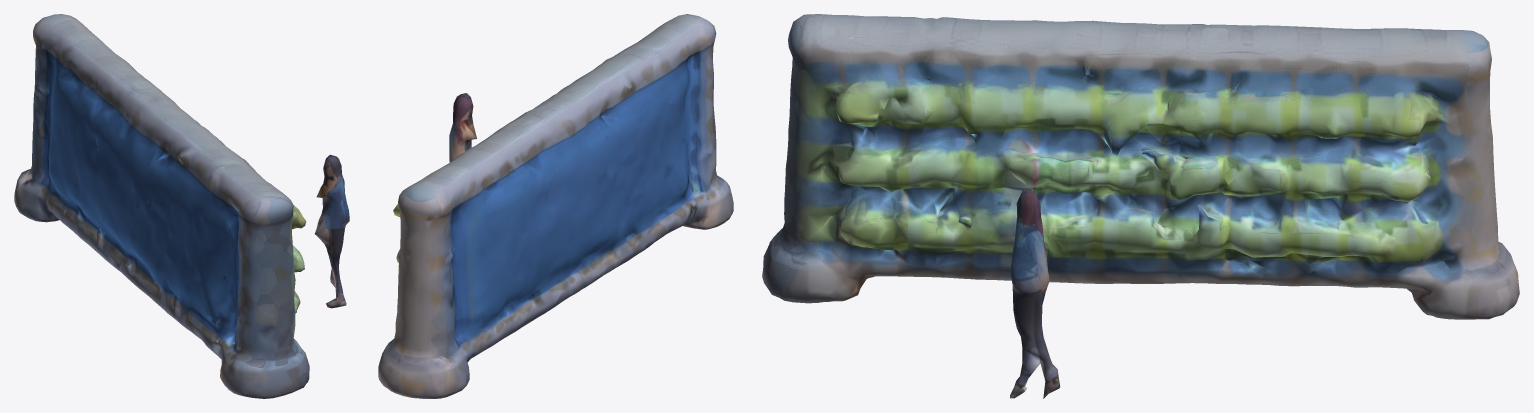
Rendered from model-four.glb.
The picture shows the model from 3 angles, left to right: view 1: azimuth 30°, elevation 25°; view 2: azimuth 150°, elevation 25°; view 3: azimuth 270°, elevation 25°; orthographic projection. The views are drawn at different scales.
Size of the model in its own units: 0.4928 by 0.4917 by 1.2.
Materials: 1 (1 with a texture image).
